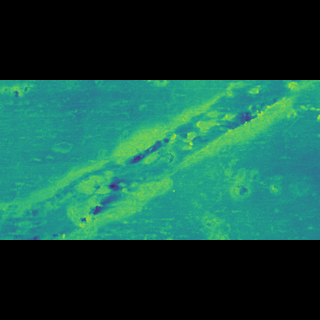Loch: (1, 117, 306, 200)
